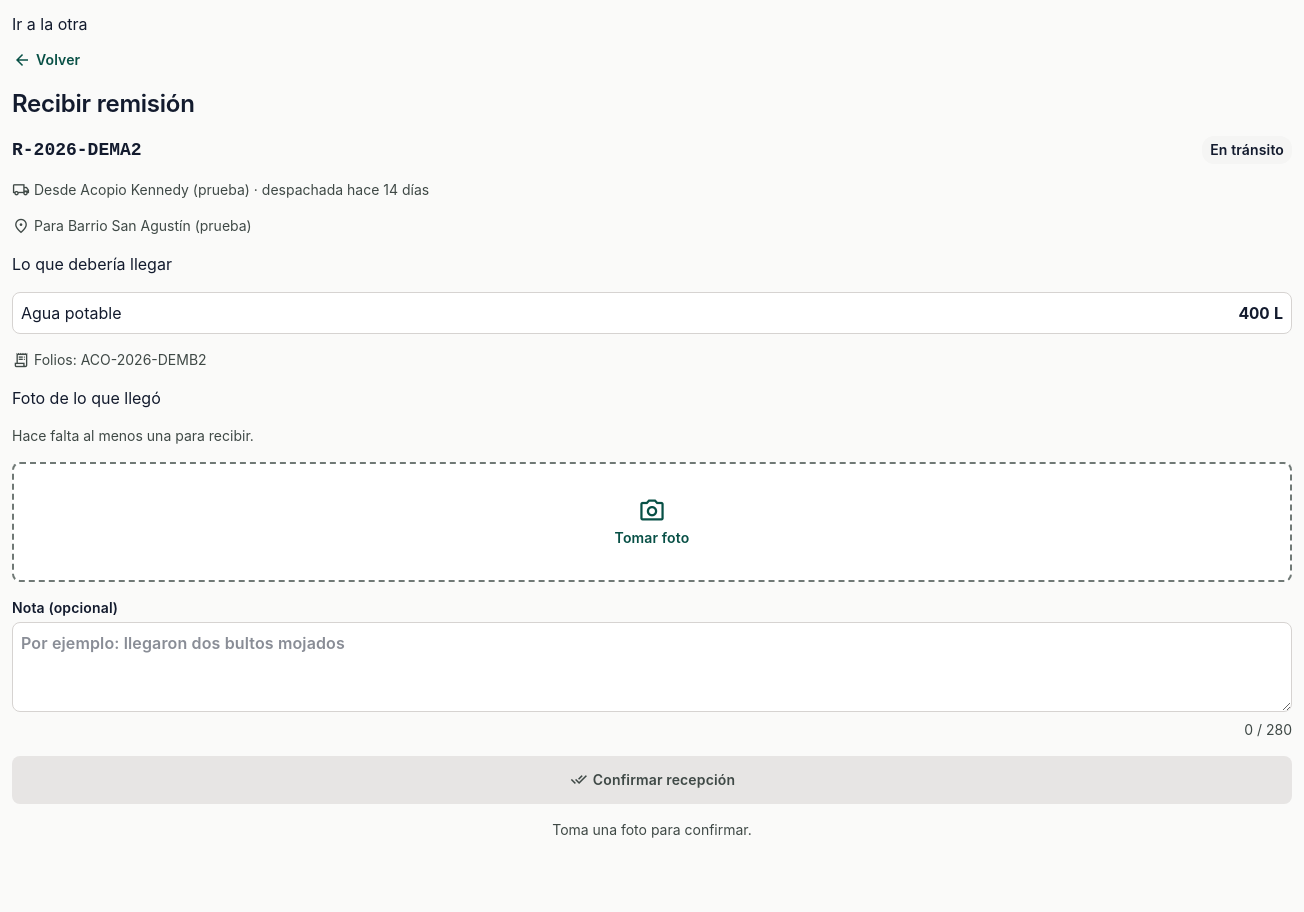
al pasar a otra remisión sin salir de la pantalla muestra la nueva
Expected: the text "R-2026-DEMA2" is shown, [12,136,142,164]
Click the link "Ir a la otra". click: (50, 24)
box: [12,14,88,34]
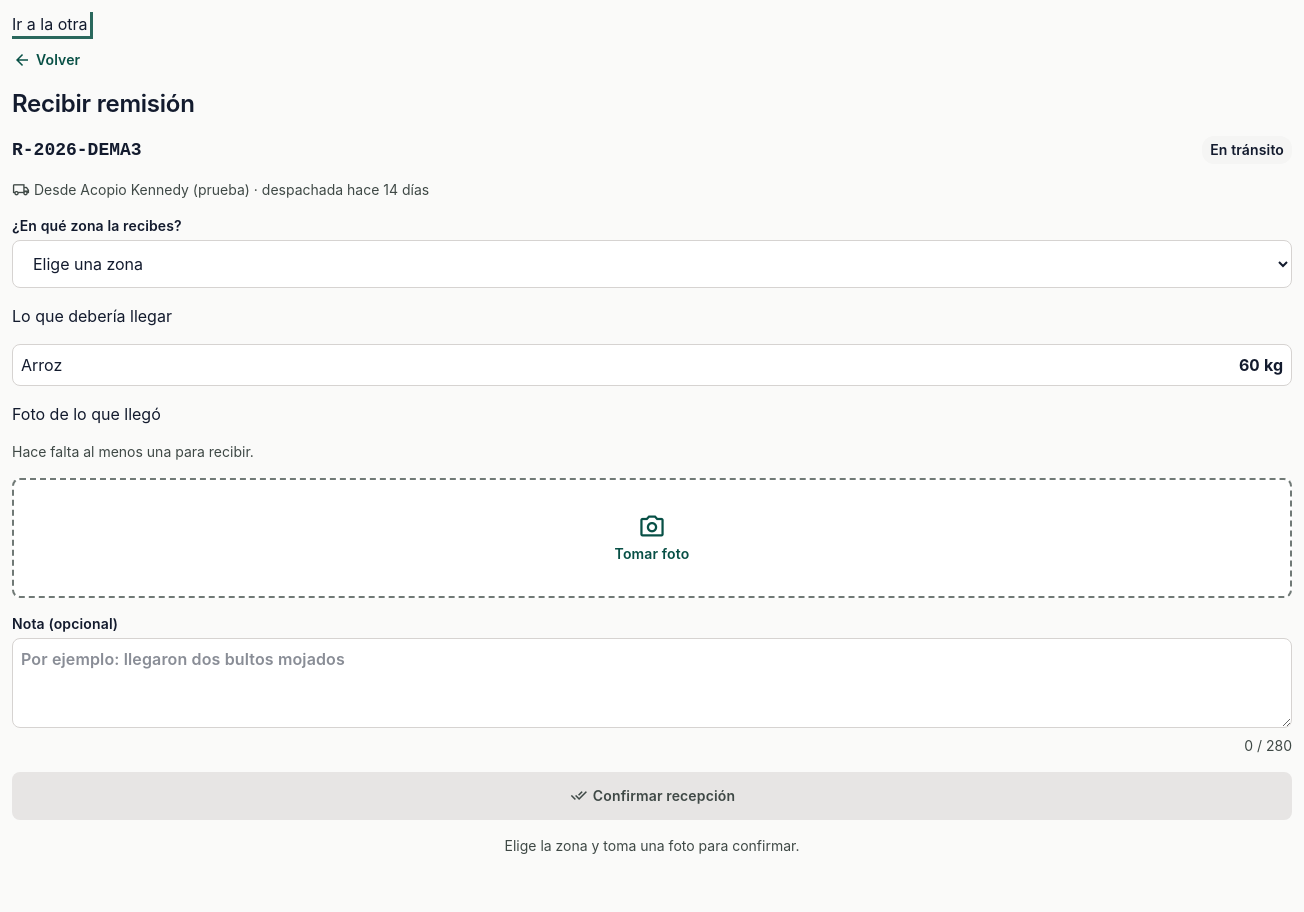
Expected: the text "R-2026-DEMA3" is shown, [12,136,142,164]
Expected: the text "R-2026-DEMA2" is gone
Expected: the dropdown labelled "¿En qué zona la recibes?" is shown, [12,240,1292,288]
